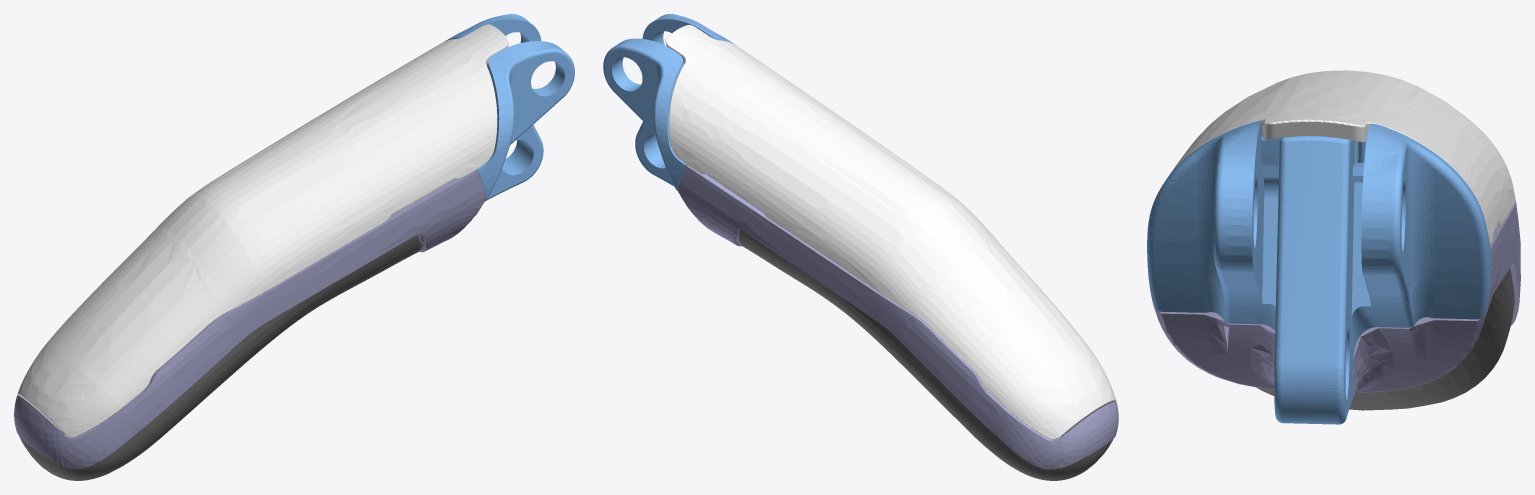
File: product.glb
The picture shows the model from 3 angles, left to right: view 1: azimuth 30°, elevation 25°; view 2: azimuth 150°, elevation 25°; view 3: azimuth 270°, elevation 25°; orthographic projection. The views are drawn at different scales.
Visible parts, largest first — view 1: Node4, Node2, Node1, Node9, Node7, Node8; view 2: Node4, Node2, Node1, Node9, Node7, Node8; view 3: Node1, Node4, Node2, Node9, Node3.
Boxes of the visible parts, x1,y1,x2,y2 form: Node4: (47,24,508,404); Node2: (62,170,487,468); Node1: (445,14,574,201); Node9: (19,235,420,480); Node7: (17,205,407,437); Node8: (14,234,422,466); Node4: (665,25,1090,405); Node2: (677,165,1063,469); Node1: (603,14,734,190); Node9: (739,230,1113,480); Node7: (683,162,1116,439); Node8: (736,229,1118,467); Node1: (1147,121,1491,424); Node4: (1168,70,1515,245); Node2: (1154,200,1520,398); Node9: (1256,268,1514,410); Node3: (1220,121,1366,271).
Bounding box in the file's own units: 19.83 × 12.96 × 6.52.
